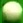white: (0, 0, 23, 23)
